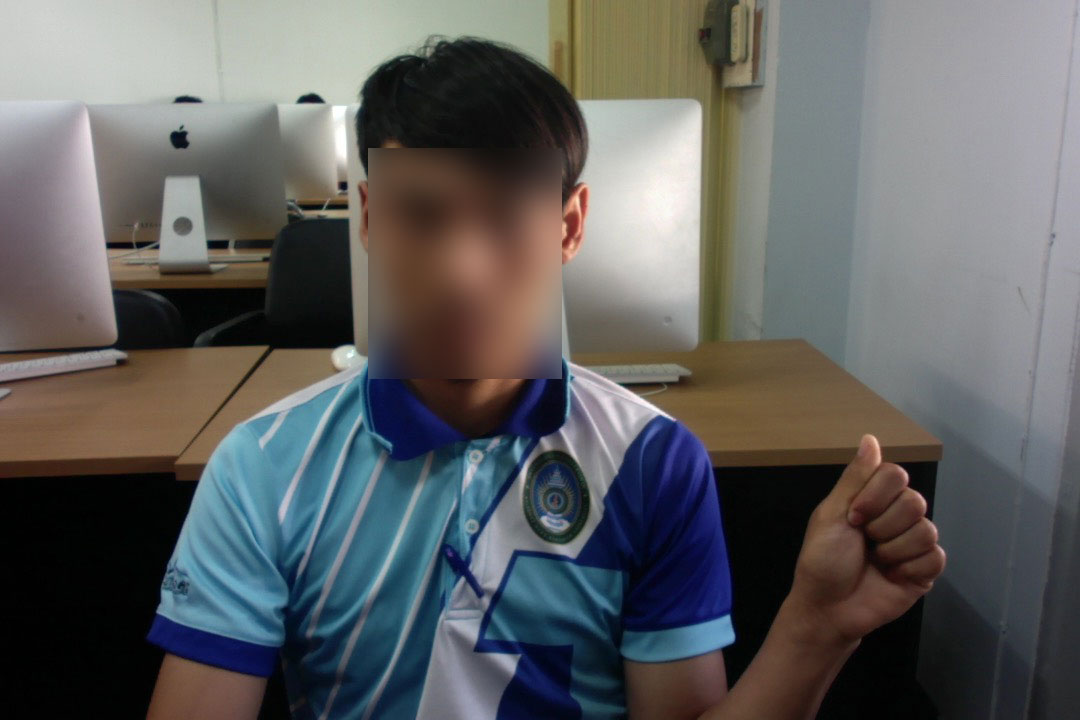or: (767, 426, 954, 636)
